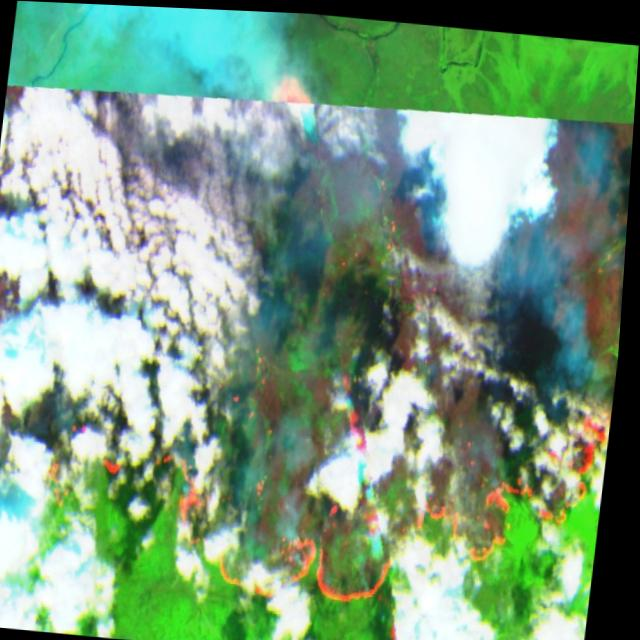fire: (0, 44, 638, 629)
